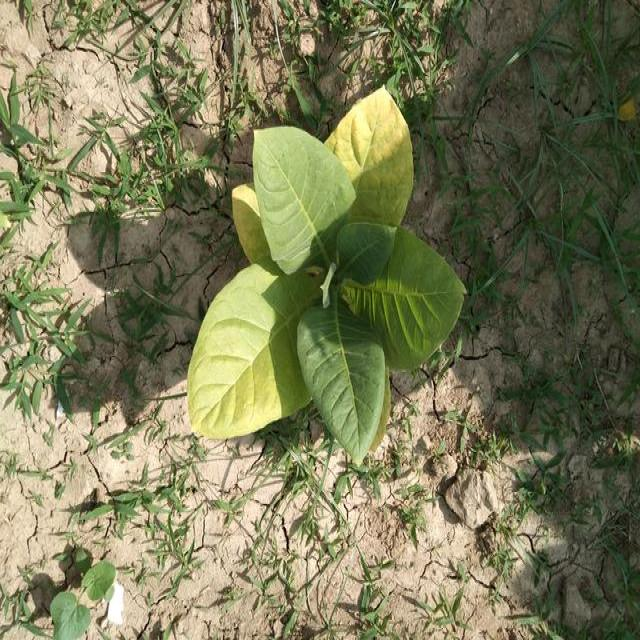crop: (188, 81, 464, 463)
